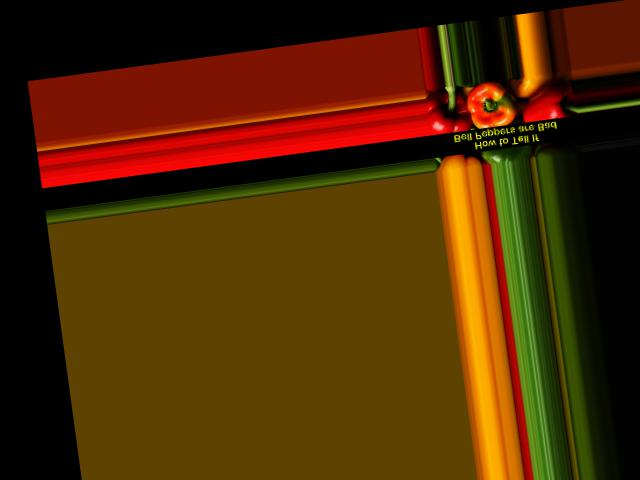bell_pepper: (426, 83, 475, 138)
